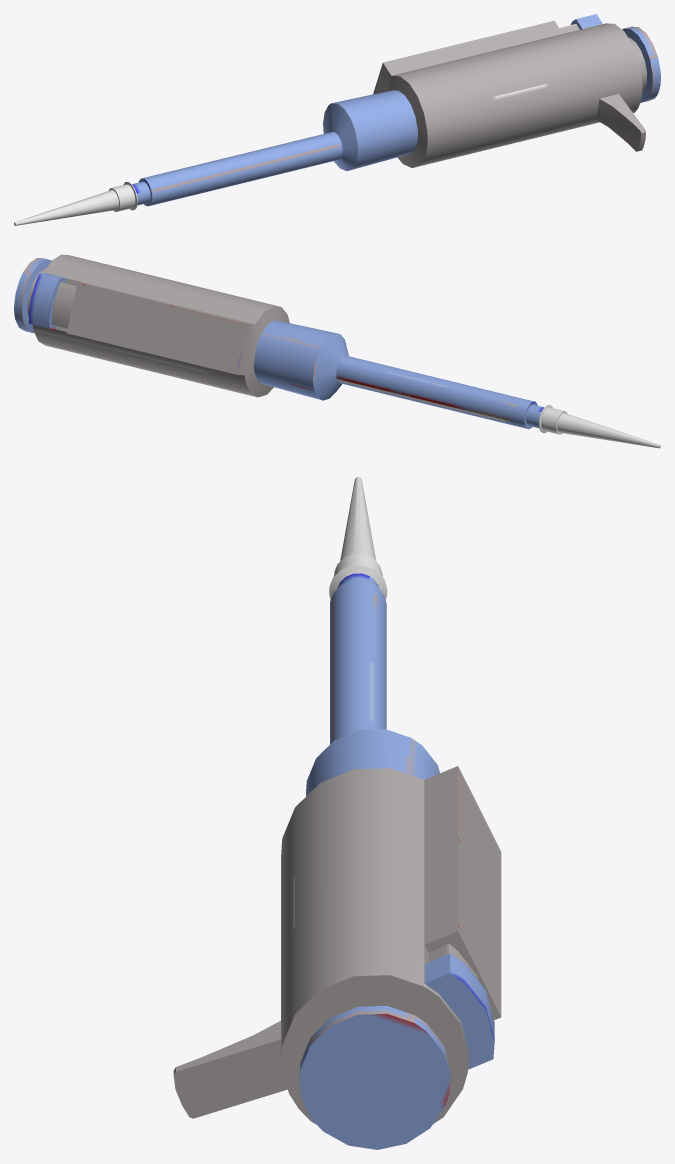
File: Lab_Tools_Pipette.fbx
3 renders of one model, top to bottom at view 1: azimuth 30°, elevation 25°; view 2: azimuth 150°, elevation 25°; view 3: azimuth 270°, elevation 25°, orthographic. The views are drawn at different scales.
Parts seen in each view (by area): view 1: Pipette; view 2: Pipette; view 3: Pipette.
Part boxes in pixels (x1,y1,x2,y2): Pipette: (14, 14, 660, 225); Pipette: (14, 254, 660, 448); Pipette: (173, 477, 501, 1149).
Size of the model in its own units: 0.2461 by 0.0323 by 0.0561.
